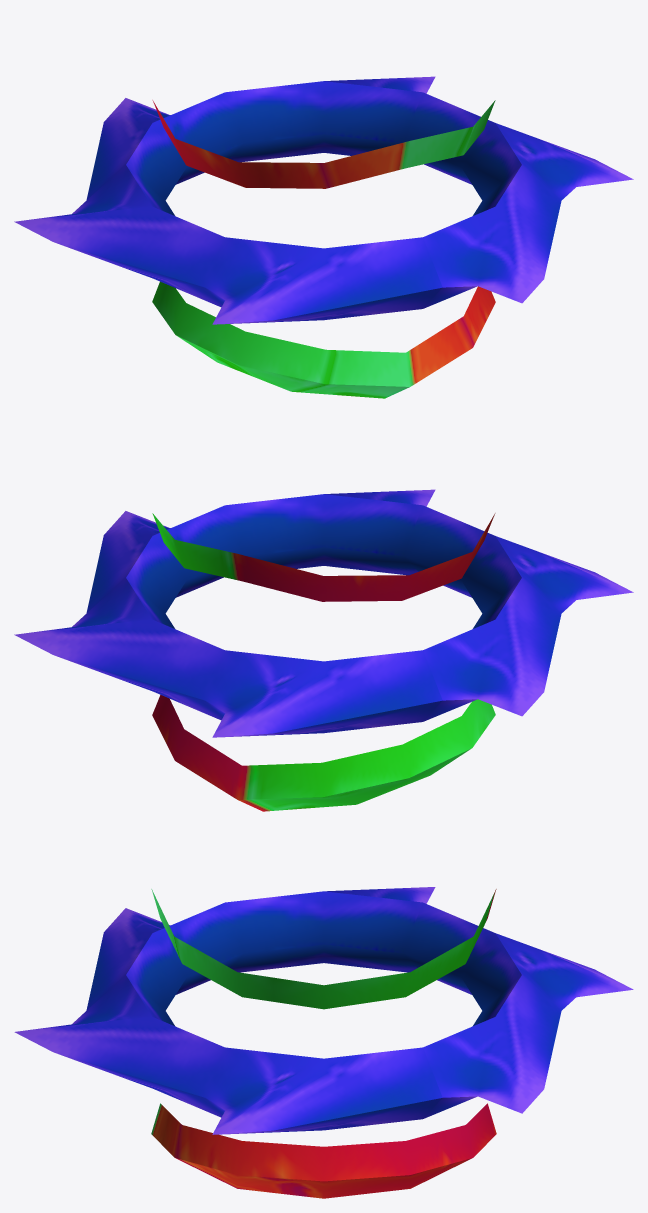
File: model_gld.glb
3 views of the same model, one above another, from view 1: azimuth 30°, elevation 25°; view 2: azimuth 150°, elevation 25°; view 3: azimuth 270°, elevation 25° (orthographic).
Parts seen in each view (by area): view 1: status.model_gld-MeshNodes["mesh_wheel"], status.model_gld-MeshNodes["mesh_mask"]; view 2: status.model_gld-MeshNodes["mesh_wheel"], status.model_gld-MeshNodes["mesh_mask"]; view 3: status.model_gld-MeshNodes["mesh_wheel"], status.model_gld-MeshNodes["mesh_mask"].
Part boxes in pixels (x1=…): status.model_gld-MeshNodes["mesh_wheel"]: x1=14, y1=76, x2=633, y2=324; status.model_gld-MeshNodes["mesh_mask"]: x1=152, y1=100, x2=495, y2=398; status.model_gld-MeshNodes["mesh_wheel"]: x1=14, y1=489, x2=633, y2=737; status.model_gld-MeshNodes["mesh_mask"]: x1=152, y1=513, x2=495, y2=811; status.model_gld-MeshNodes["mesh_wheel"]: x1=14, y1=887, x2=633, y2=1134; status.model_gld-MeshNodes["mesh_mask"]: x1=151, y1=889, x2=496, y2=1198.
Bounding box in the file's own units: 1.09 × 0.6323 × 1.15.
1 material, 1 textured.
